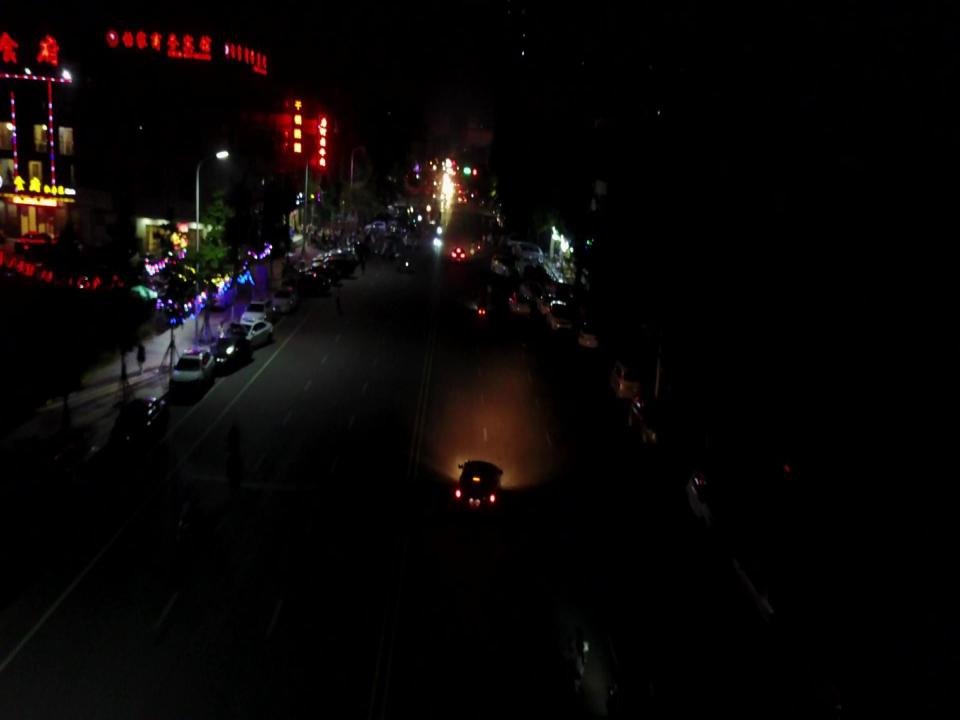car: (571, 628, 623, 704), (111, 398, 167, 465), (685, 473, 737, 534), (454, 459, 504, 519), (626, 398, 680, 452), (169, 349, 215, 402), (207, 333, 257, 375), (608, 355, 646, 404), (234, 313, 276, 343), (464, 280, 496, 319), (573, 313, 601, 355), (544, 299, 573, 333), (504, 286, 532, 321), (274, 282, 300, 319), (241, 300, 271, 329)
